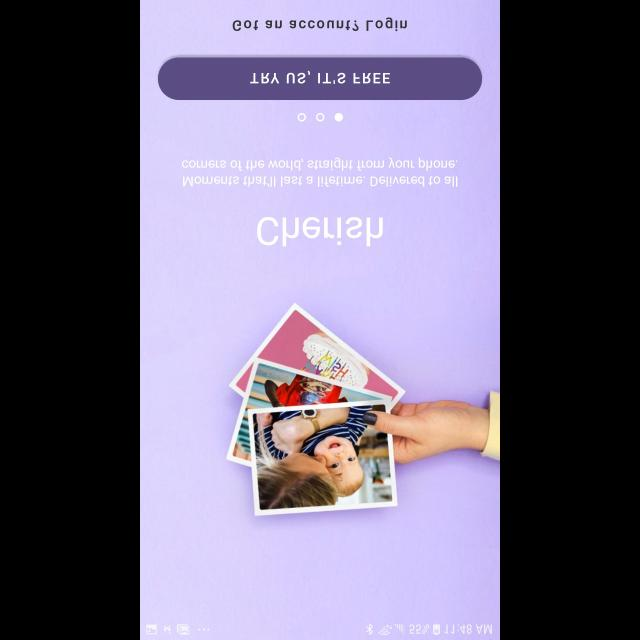backgroundimage: (140, 0, 500, 622)
image: (225, 300, 500, 516)
pageindicator: (297, 111, 343, 122)
text: (182, 156, 458, 188), (257, 217, 383, 247), (232, 17, 408, 31)
textbutton: (158, 58, 482, 100)
uppertaskbar: (140, 622, 500, 640)
